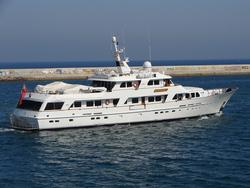yacht: (17, 50, 240, 129)
